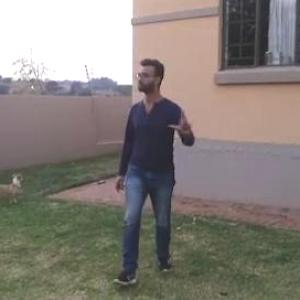land_hand: (166, 107, 199, 141)
